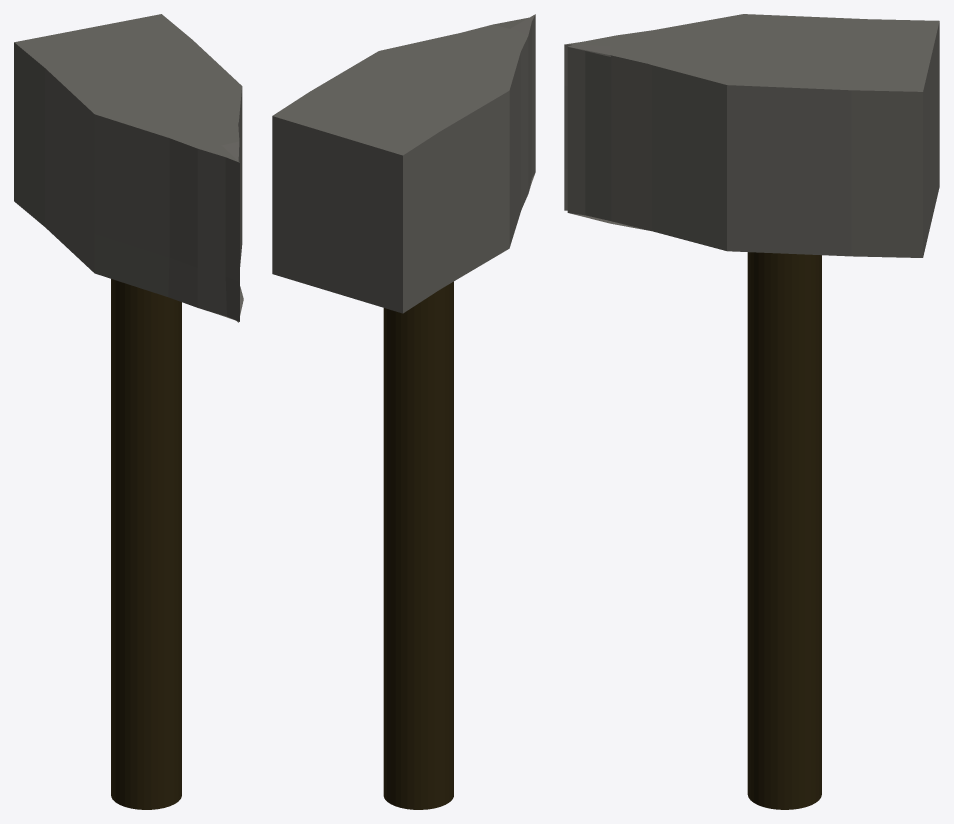
The model's file is martillo-hacha.glb.
3 views of the same model, side by side, from view 1: azimuth 30°, elevation 25°; view 2: azimuth 150°, elevation 25°; view 3: azimuth 270°, elevation 25° (orthographic). The views are drawn at different scales.
Parts seen in each view (by area): view 1: Cilindro.001, Cilindro; view 2: Cilindro.001, Cilindro; view 3: Cilindro.001, Cilindro.
Boxes of the visible parts, left/top/right/bottom form: Cilindro.001: left=14, top=14, right=243, bottom=322; Cilindro: left=111, top=279, right=181, bottom=809; Cilindro.001: left=272, top=14, right=535, bottom=313; Cilindro: left=383, top=281, right=453, bottom=809; Cilindro.001: left=564, top=14, right=939, bottom=257; Cilindro: left=747, top=252, right=821, bottom=809.
Size of the model in its own units: 0.6351 by 2.83 by 1.29.
